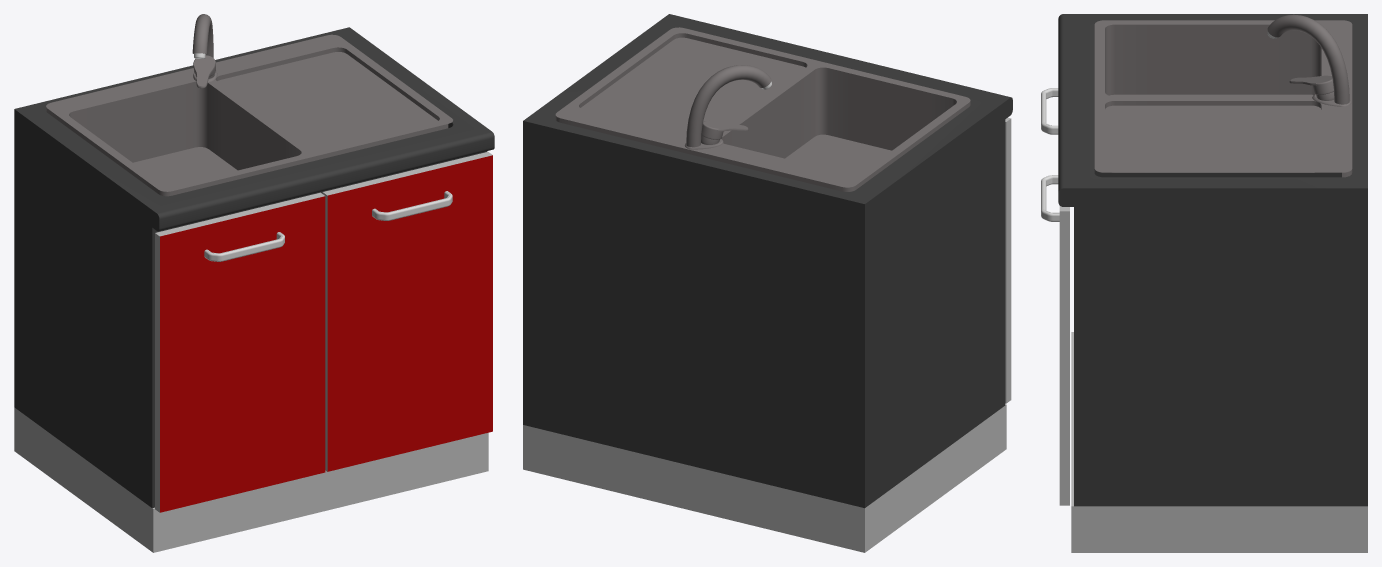
Rendered from lavello.obj.
The picture shows the model from 3 angles, left to right: view 1: azimuth 30°, elevation 25°; view 2: azimuth 150°, elevation 25°; view 3: azimuth 270°, elevation 25°; orthographic projection. The views are drawn at different scales.
Visible parts, largest first — view 1: Box282_7, Box272_4, Rectangle11_11, Rectangle10_12, Line50_9, Box30_10, Box273_5, Box27_3, Box28_6, Box283_8, Loft10_1, Loft11_2 (+1 smaller); view 2: Rectangle11_11, Rectangle10_12, Box30_10, Line50_9, Box273_5, Loft02_13; view 3: Rectangle11_11, Rectangle10_12, Line50_9, Box30_10, Box283_8, Loft02_13, Loft11_2, Loft10_1.
Part boxes in pixels (box(x1,y1,x2,y2)): Box282_7: box(327, 155, 492, 471); Box272_4: box(160, 196, 325, 512); Rectangle11_11: box(14, 127, 487, 508); Rectangle10_12: box(46, 34, 452, 196); Line50_9: box(14, 27, 494, 231); Box30_10: box(14, 407, 488, 552); Box273_5: box(155, 233, 159, 512); Box27_3: box(155, 192, 324, 236); Box28_6: box(323, 152, 492, 195); Box283_8: box(322, 192, 327, 471); Loft10_1: box(204, 232, 284, 261); Loft11_2: box(372, 191, 452, 220); Rectangle11_11: box(523, 119, 1005, 508); Rectangle10_12: box(555, 27, 970, 191); Box30_10: box(523, 404, 1006, 552); Line50_9: box(523, 14, 1012, 221); Box273_5: box(1005, 119, 1011, 403); Loft02_13: box(686, 65, 771, 147); Rectangle11_11: box(1074, 169, 1367, 506); Rectangle10_12: box(1094, 20, 1352, 177); Line50_9: box(1058, 14, 1367, 206); Box30_10: box(1071, 332, 1367, 552); Box283_8: box(1059, 211, 1069, 505); Loft02_13: box(1267, 14, 1349, 104); Loft11_2: box(1041, 175, 1059, 221); Loft10_1: box(1041, 88, 1058, 134).
Bounding box in the file's own units: 80 × 94.97 × 63.38.
